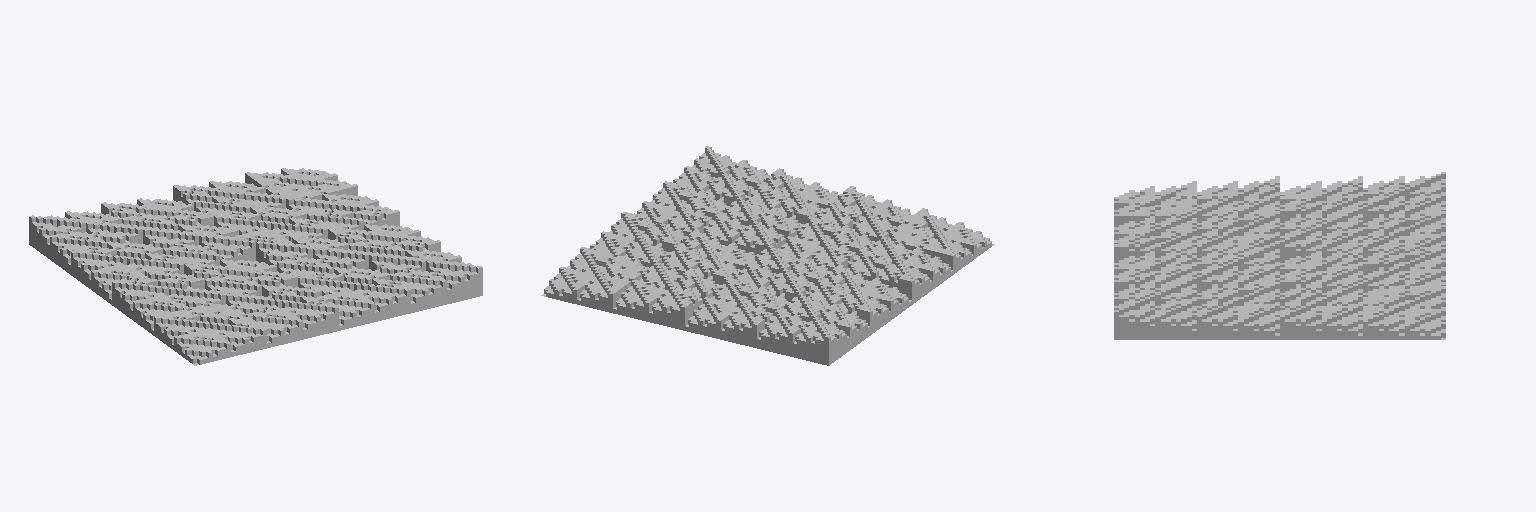
3 renders of one model, left to right at view 1: azimuth 30°, elevation 25°; view 2: azimuth 150°, elevation 25°; view 3: azimuth 270°, elevation 25°, orthographic.
Bounding box in the file's own units: 64 × 6 × 64.